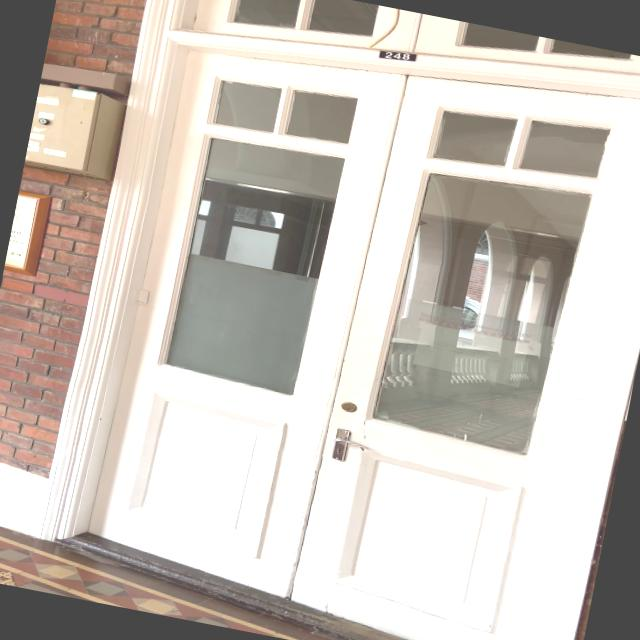room248: (371, 41, 428, 69)
